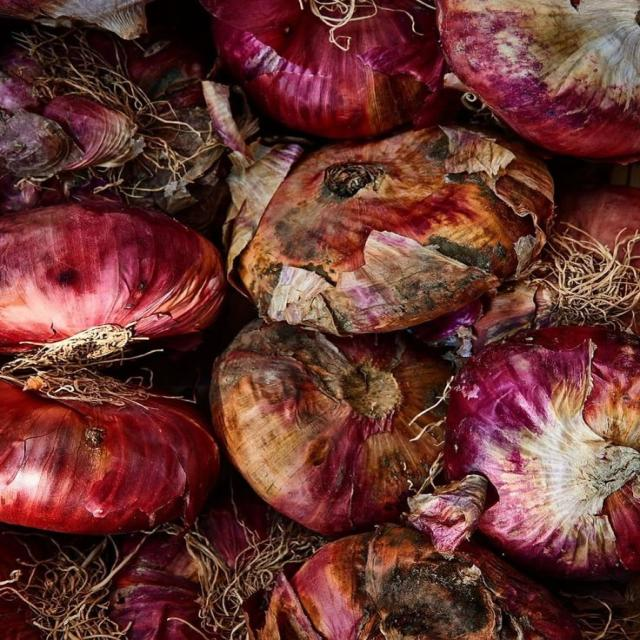rotten: (230, 127, 552, 335), (210, 321, 449, 534), (446, 327, 639, 577), (202, 0, 444, 138), (438, 0, 639, 160), (0, 109, 79, 177)
